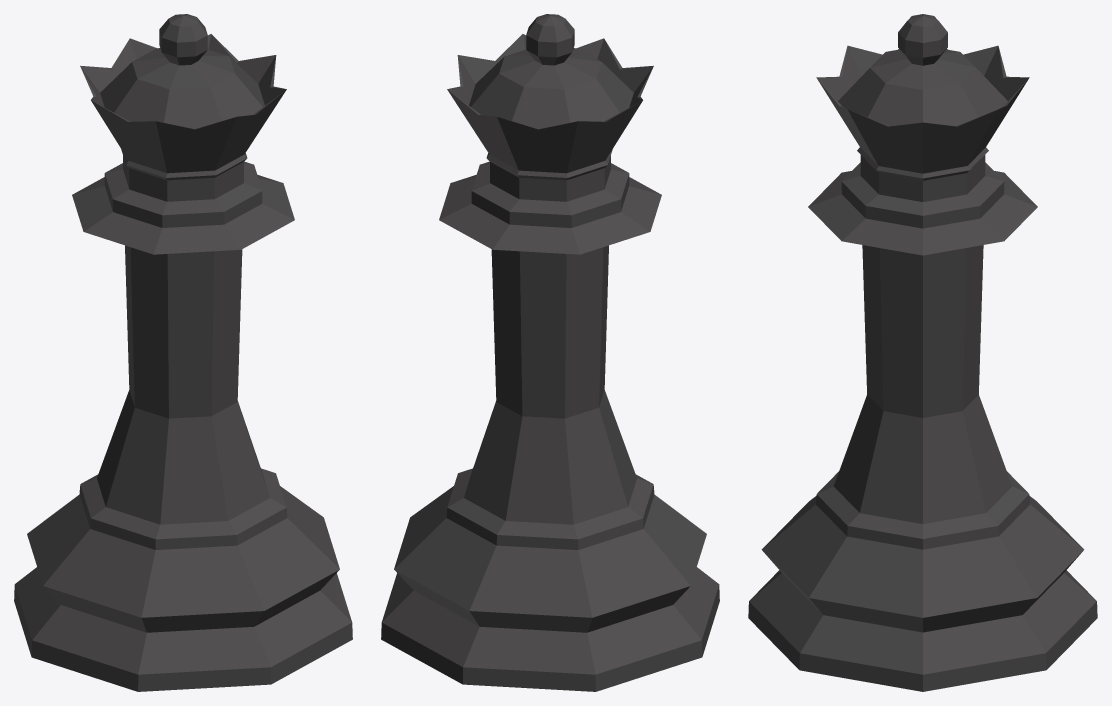
File: Chess_Black_Queen.fbx
3 views of the same model, side by side, from view 1: azimuth 30°, elevation 25°; view 2: azimuth 150°, elevation 25°; view 3: azimuth 270°, elevation 25° (orthographic).
Visible parts, largest first — view 1: Chess_Black_Queen; view 2: Chess_Black_Queen; view 3: Chess_Black_Queen.
Boxes of the visible parts, left/top/right/bottom form: Chess_Black_Queen: left=14, top=14, right=352, bottom=691; Chess_Black_Queen: left=381, top=14, right=719, bottom=691; Chess_Black_Queen: left=748, top=14, right=1097, bottom=691.
Bounding box in the file's own units: 3.76 × 3.76 × 7.15.
